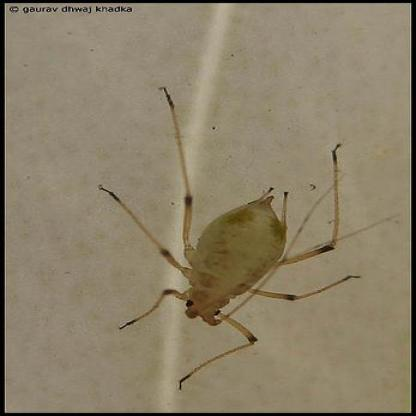aphid: (66, 95, 360, 385)
